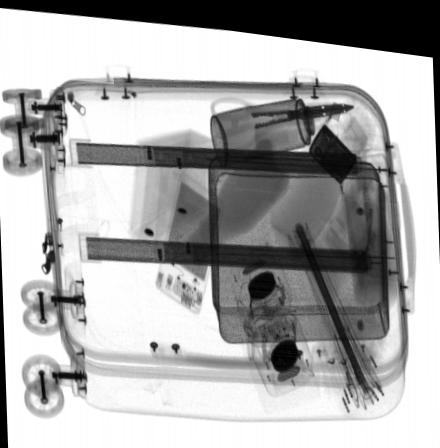Lighter: (307, 115, 356, 176)
Powerbank: (153, 164, 224, 312)
Scissors: (210, 90, 354, 159)
Sprayer: (209, 80, 334, 162)
